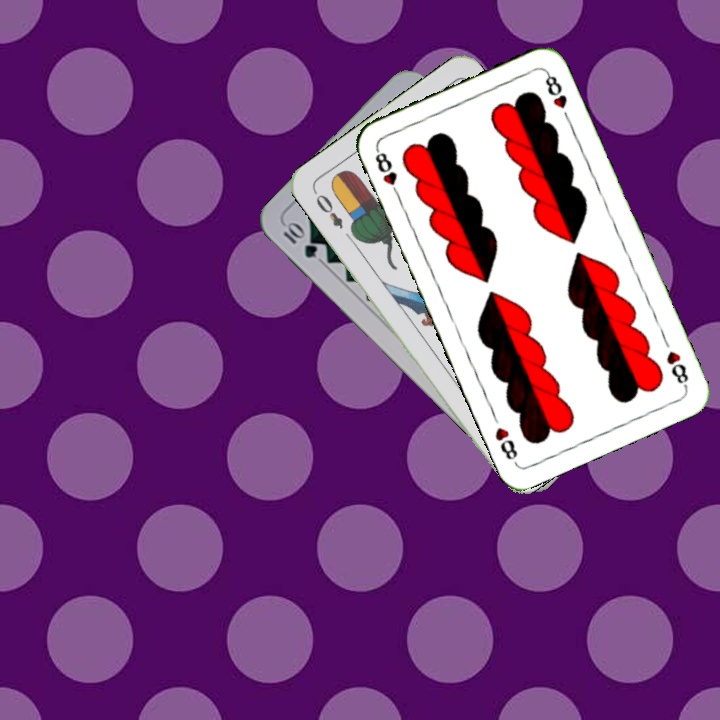EO: (309, 187, 346, 232)
G10: (279, 217, 320, 261)
H8: (371, 144, 403, 200), (662, 346, 691, 390)
